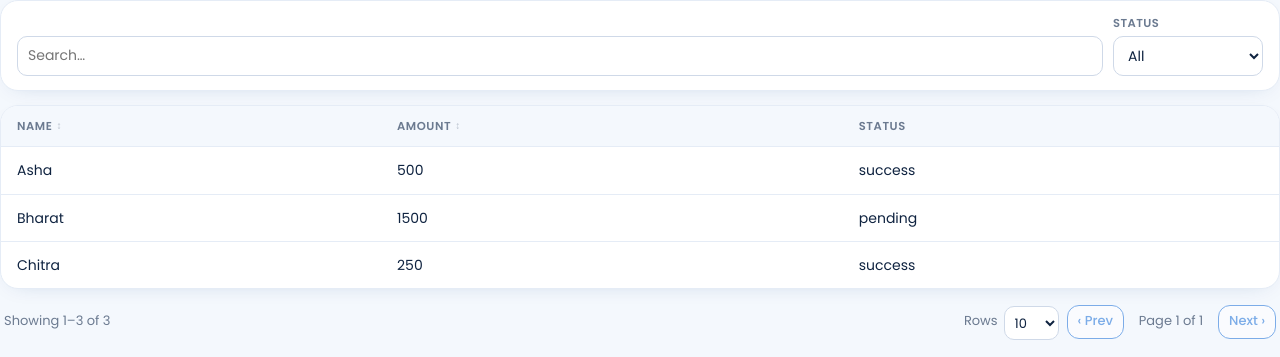
Test case: DataTable › filters by a drop-down and by search, and clears them
Select "Pending" in the dropdown labelled "Status": coordinates (1188, 56) [1113,36,1263,76]
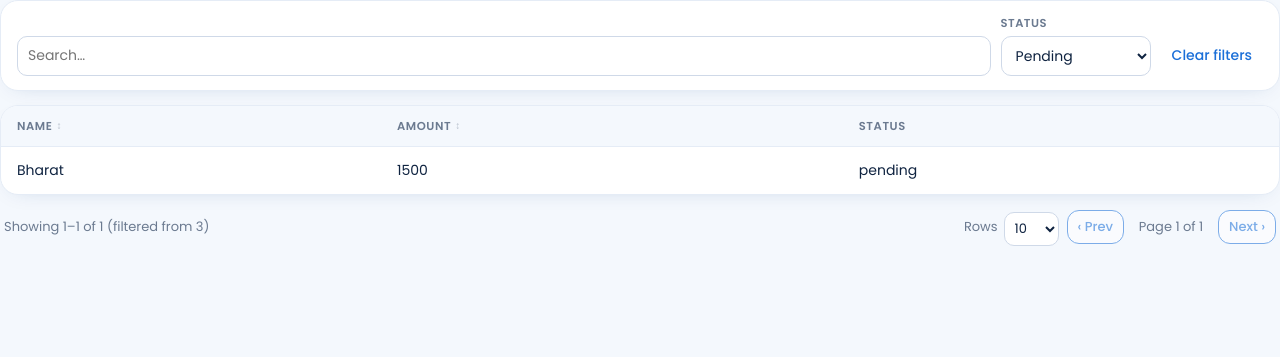
Expected: the text "Showing 1–1 of 1 (filtered from 3)" is shown, [4,218,209,236]
Click the button "Clear filters": coordinates (1212, 56) [1161,36,1263,76]
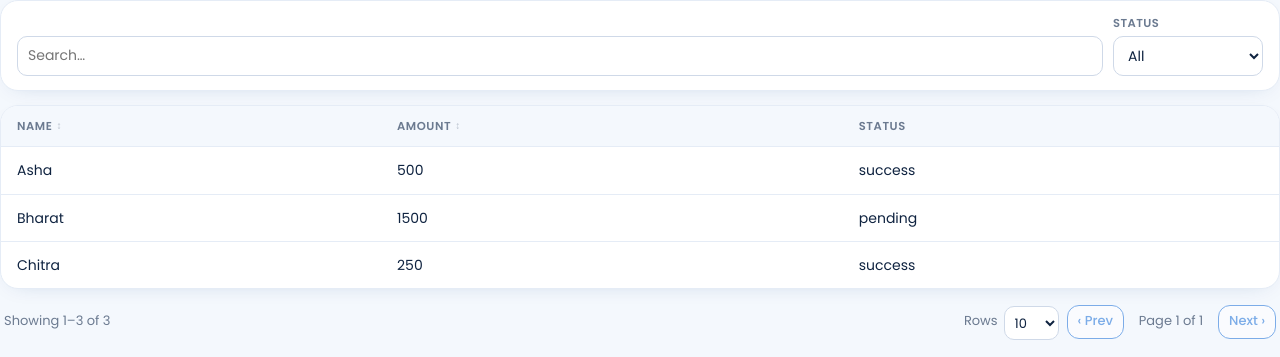
In the search field labelled "Search": coordinates (560, 56) [17,36,1103,76], type "chit"
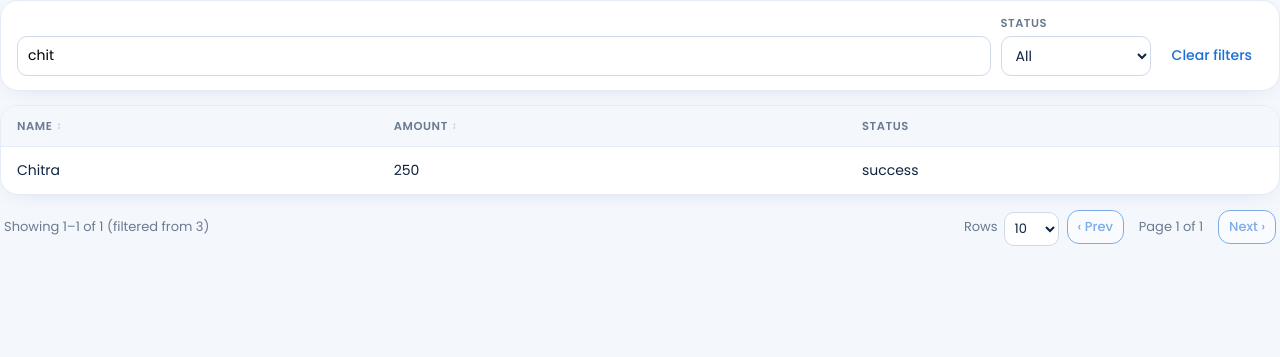
Expected: the text "Showing 1–1 of 1 (filtered from 3)" is shown, [4,218,209,236]
